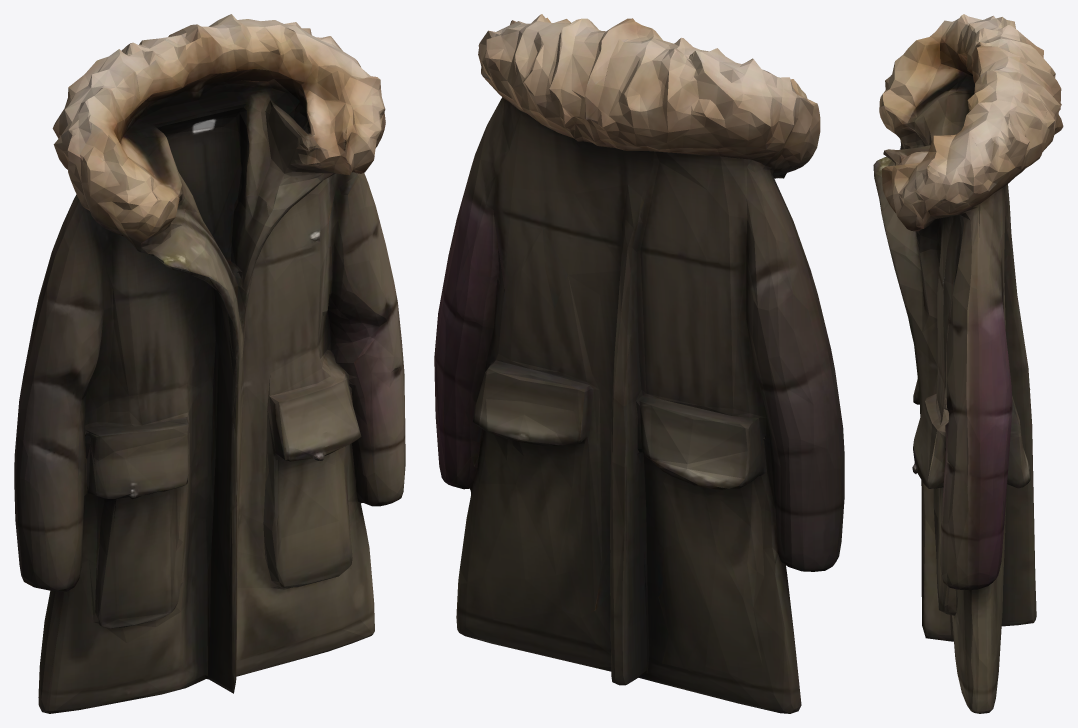
File: parka_brown_fur.glb
The picture shows the model from 3 angles, left to right: view 1: azimuth 30°, elevation 25°; view 2: azimuth 150°, elevation 25°; view 3: azimuth 270°, elevation 25°; orthographic projection. The views are drawn at different scales.
Visible parts, largest first — view 1: geometry_0; view 2: geometry_0; view 3: geometry_0.
Boxes of the visible parts, x1,y1,x2,y2 form: geometry_0: [14, 14, 405, 713]; geometry_0: [434, 14, 844, 713]; geometry_0: [873, 14, 1063, 713].
Size of the model in its own units: 0.6393 by 0.9999 by 0.2902.
1 material, 1 textured.
